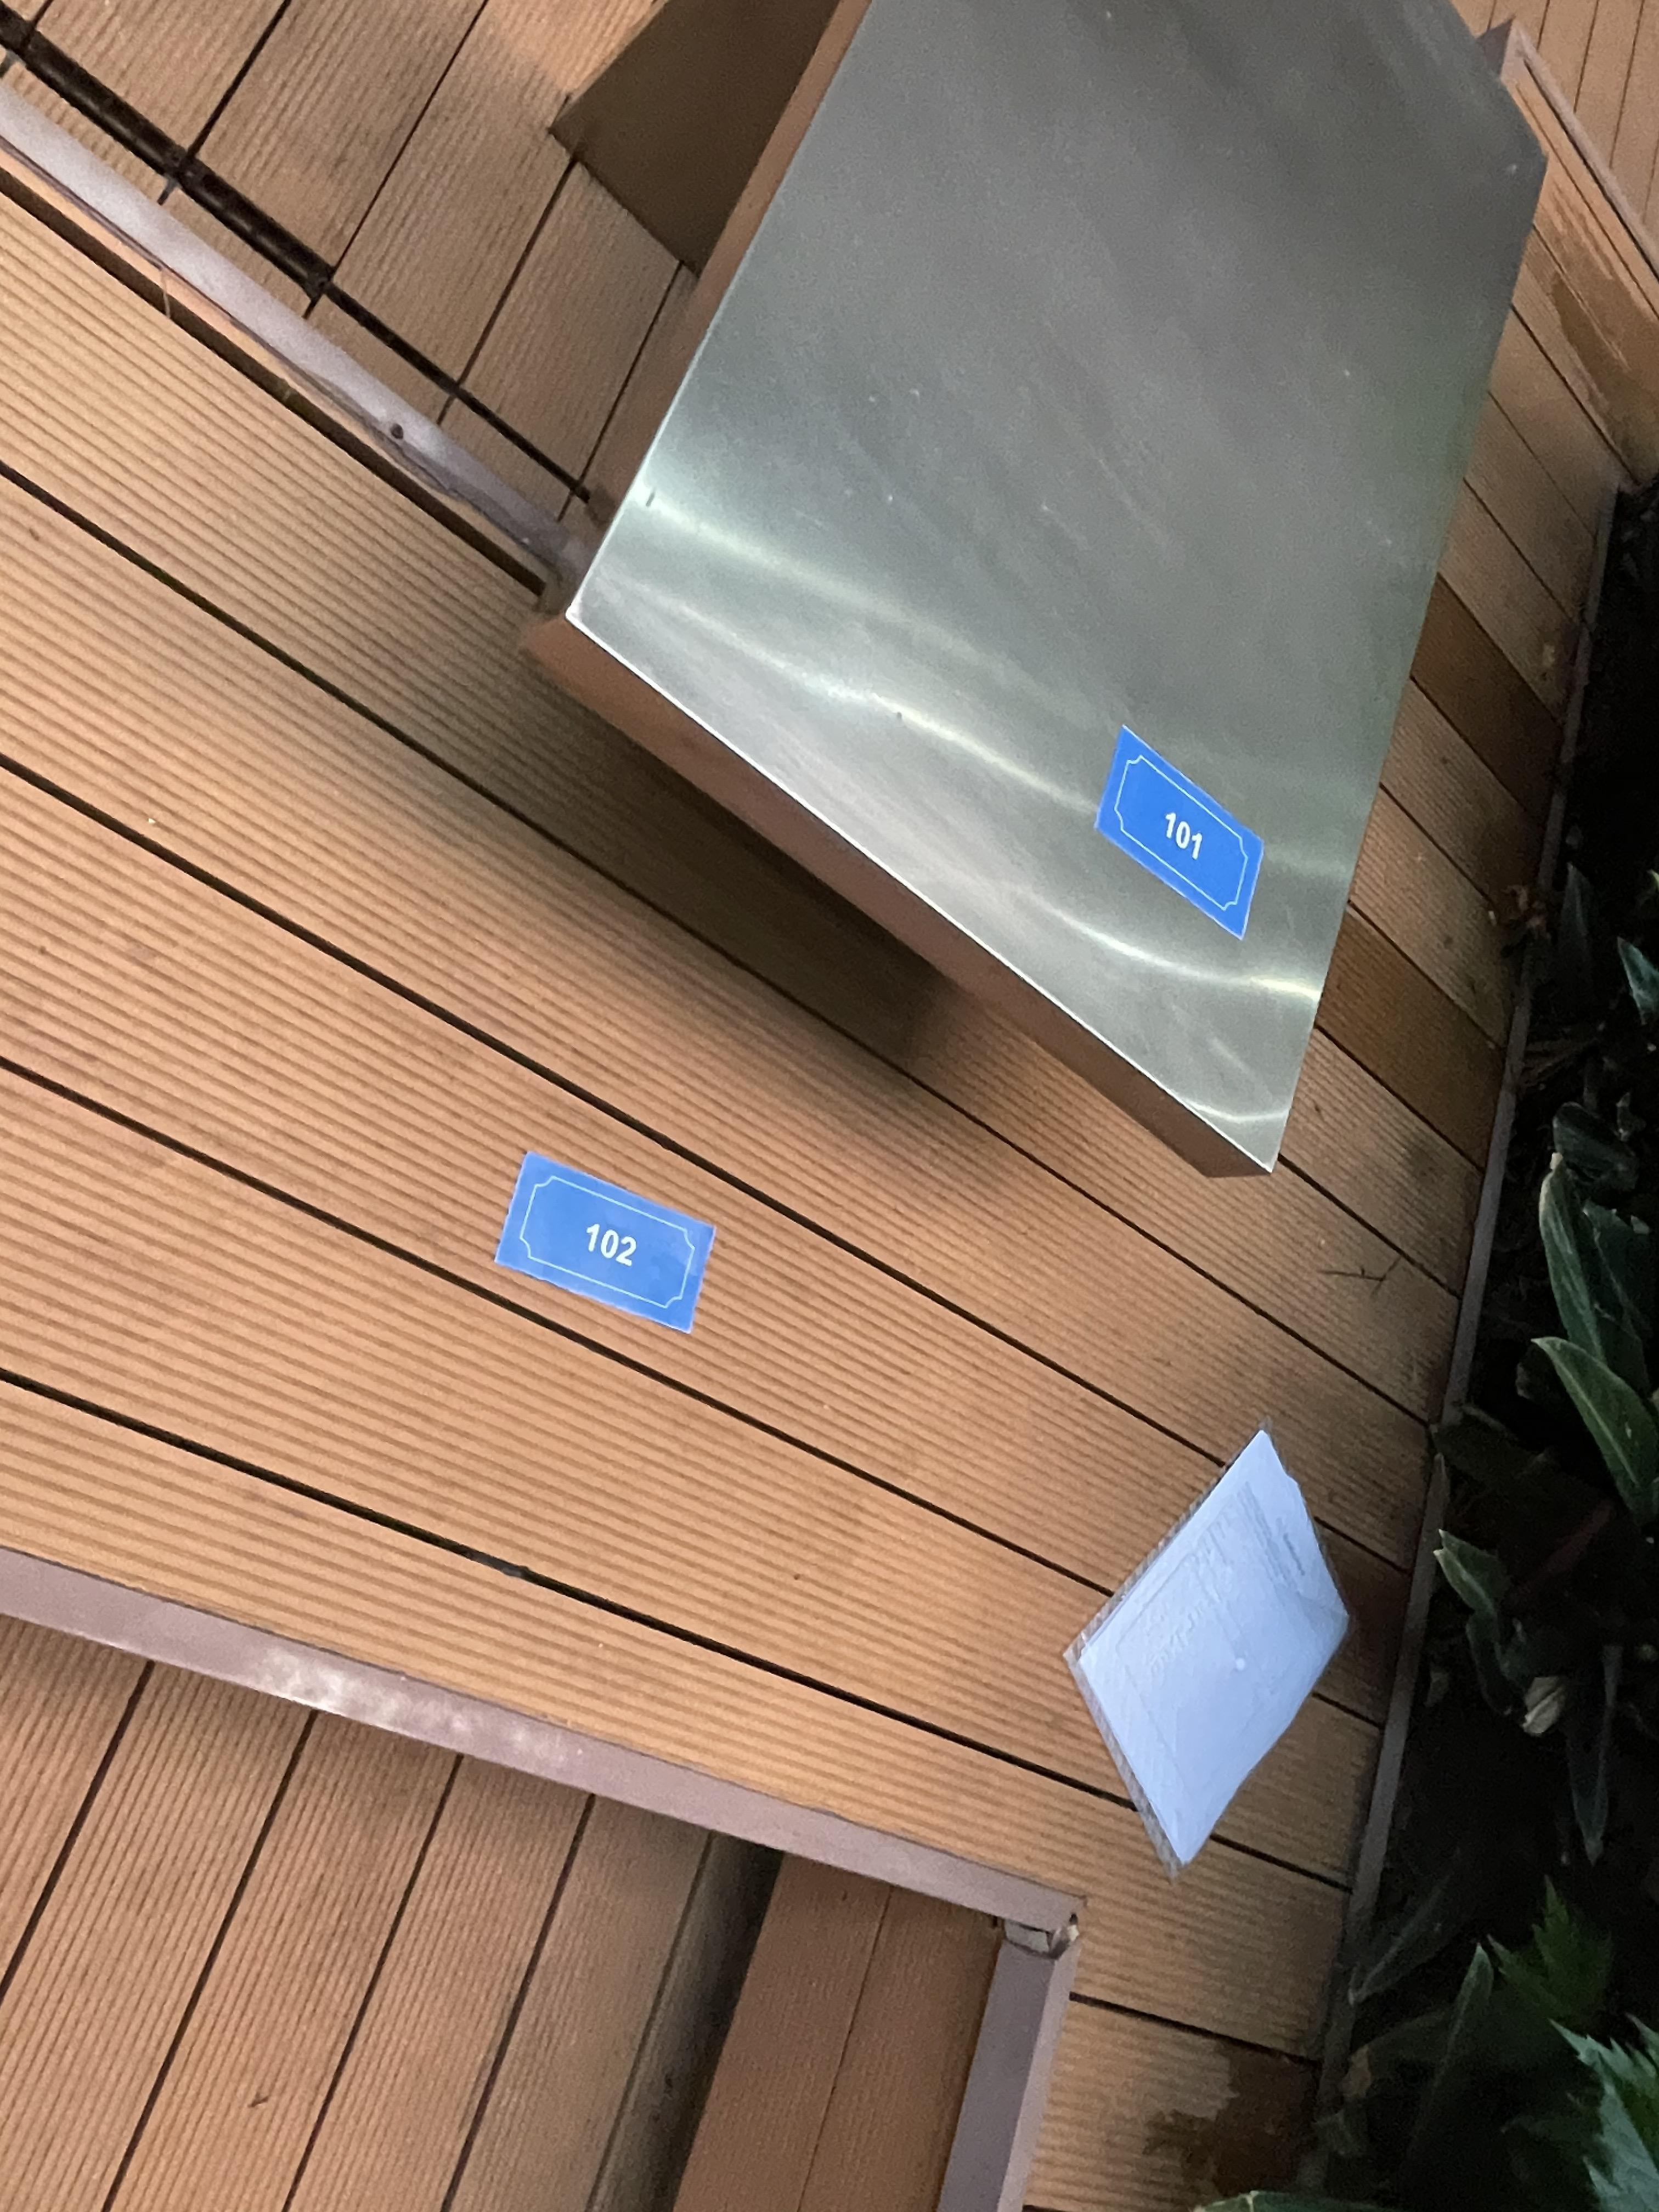Card: (456, 1115, 740, 1359), (1071, 687, 1297, 981)
